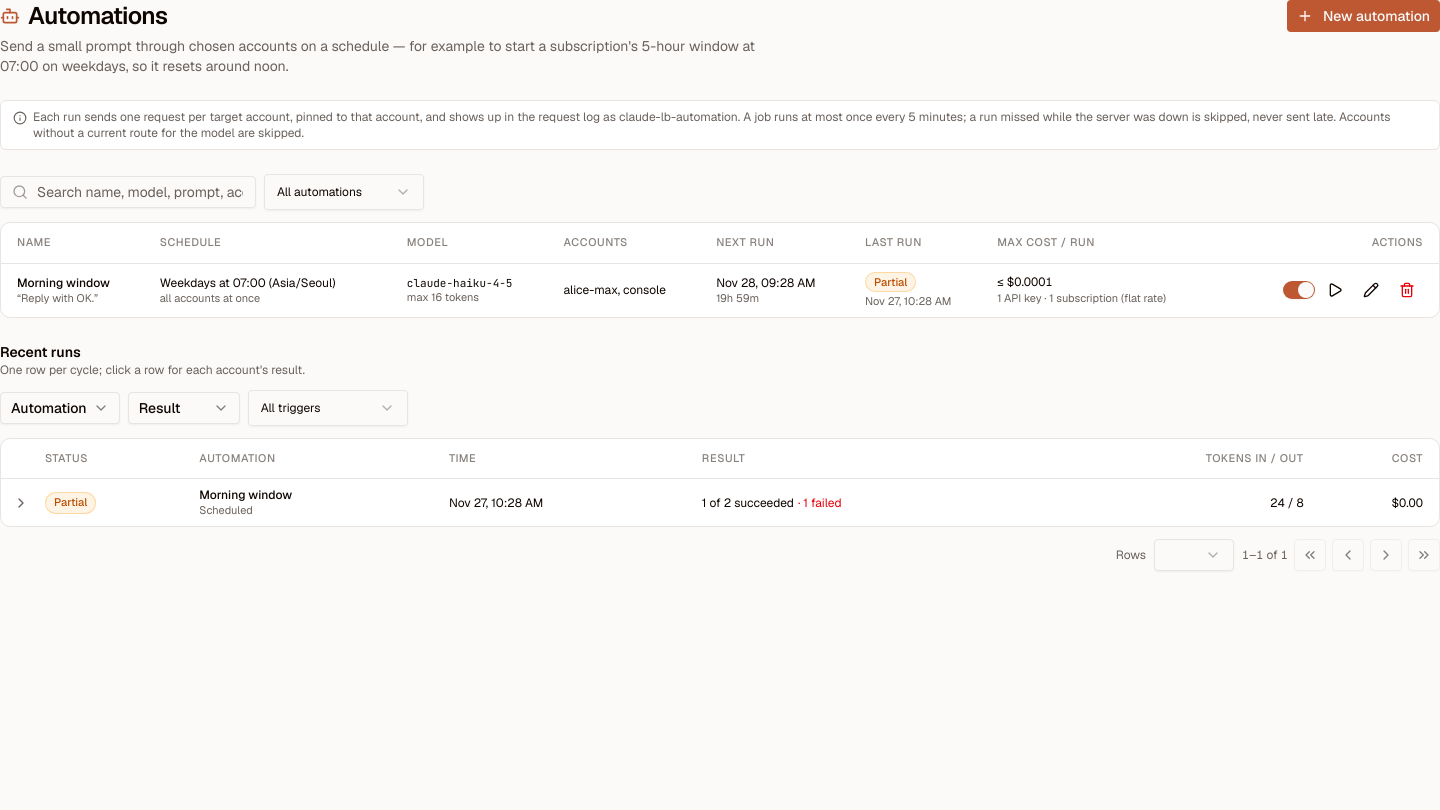
it: AutomationsPage › runs a job now after a confirmation that shows the API-key cost
The width and height of the screenshot is (1440, 810).
Expected: the row with test id "automation-job_1" is shown, [1,263,1439,317]
Click the button named "Run Morning window now": {"x": 1335, "y": 290} [1319,274,1351,306]
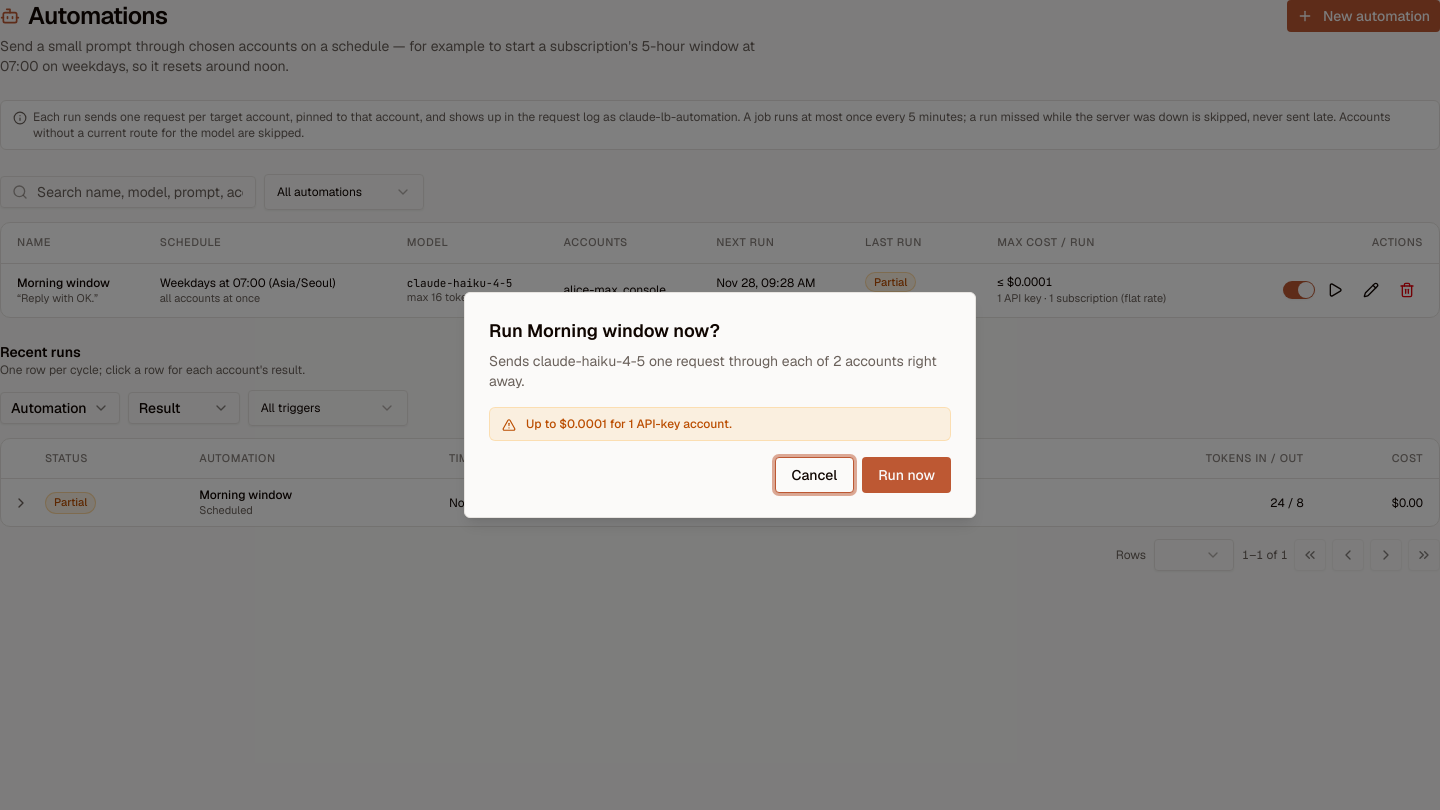
Now the text "through each of 2 accounts" is shown, box [489,352,937,390]
Now the text "Up to $0.0001 for 1 API-key account." is shown, box [526,416,732,432]
Click the button "Run now": {"x": 907, "y": 475} [862,457,951,493]
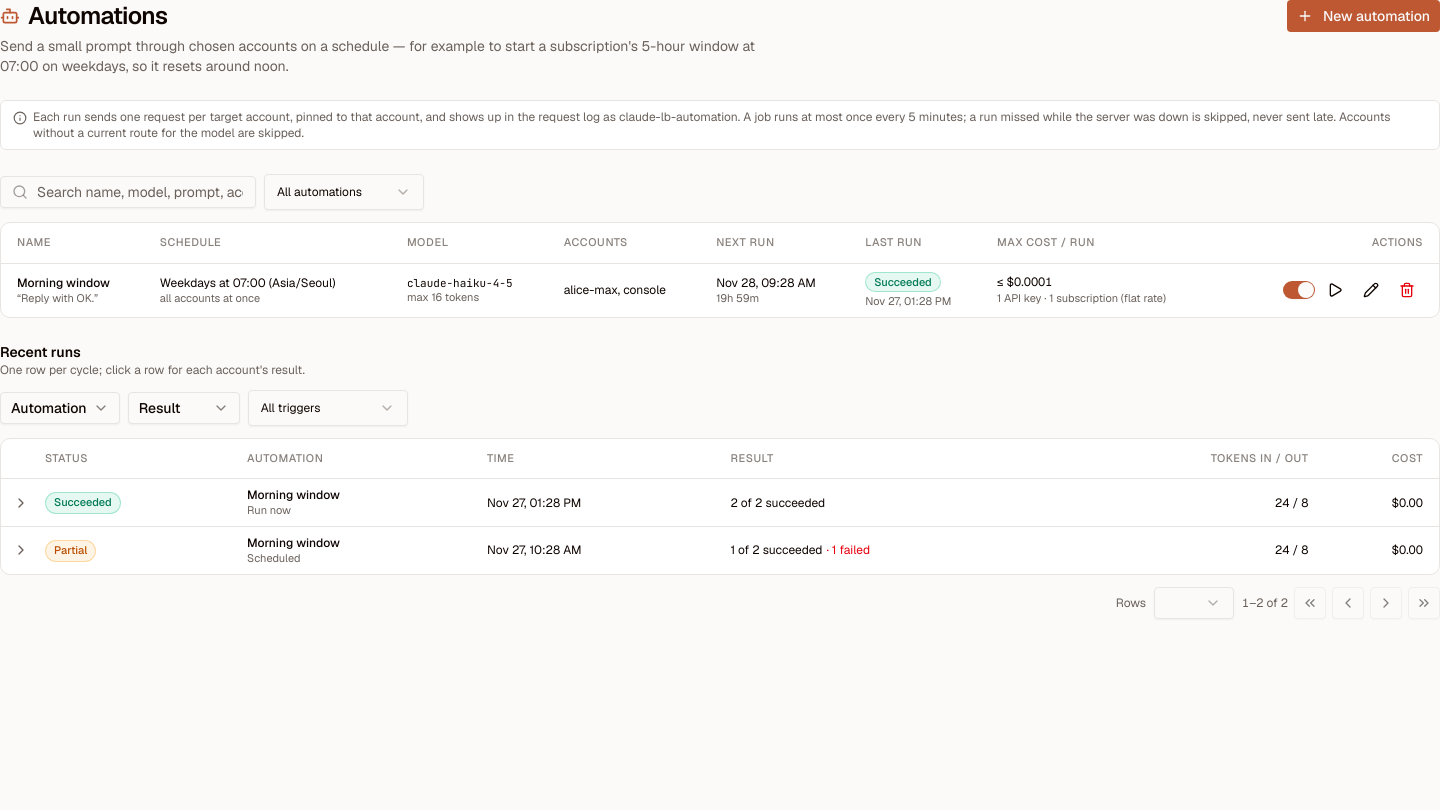
Now the text "Run now" is shown, box [247,503,291,517]
Now the text "2 of 2 succeeded" is shown, box [722,479,1066,526]
